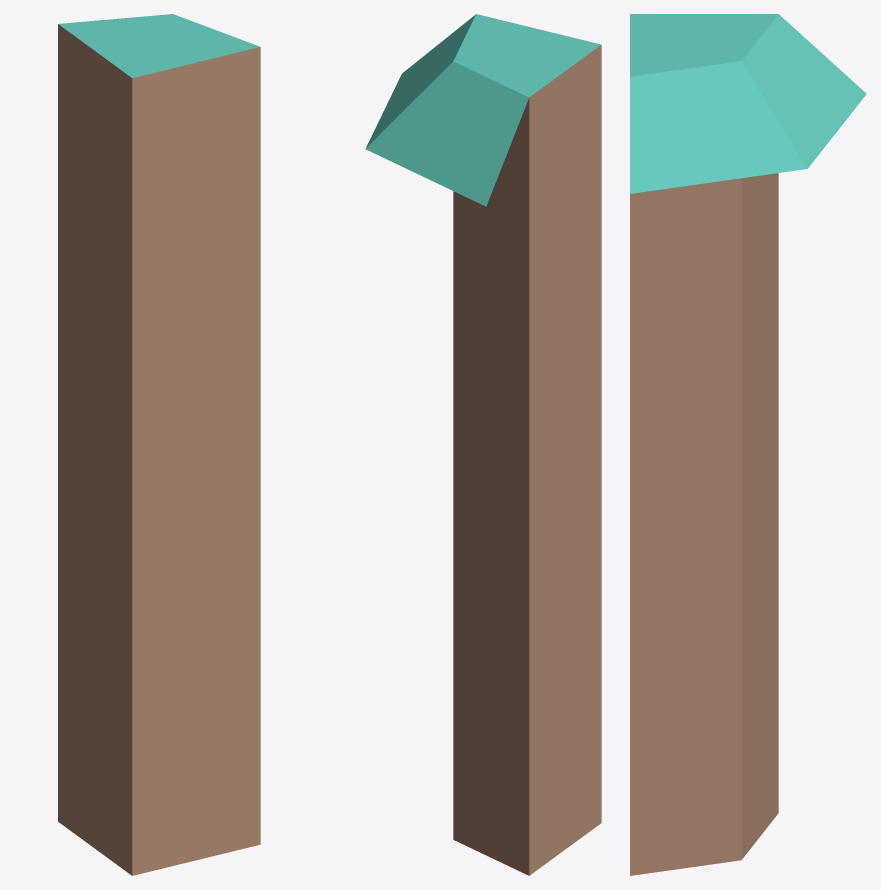
The model's file is cliff_cornerTop_rock.glb.
3 renders of one model, left to right at view 1: azimuth 30°, elevation 25°; view 2: azimuth 150°, elevation 25°; view 3: azimuth 270°, elevation 25°, orthographic. The views are drawn at different scales.
Parts seen in each view (by area): view 1: cliff_cornerTop_rock; view 2: cliff_cornerTop_rock; view 3: cliff_cornerTop_rock.
Boxes of the visible parts, x1,y1,x2,y2 form: cliff_cornerTop_rock: [58, 14, 260, 875]; cliff_cornerTop_rock: [365, 14, 601, 875]; cliff_cornerTop_rock: [630, 14, 866, 875].
Size of the model in its own units: 0.2685 by 1 by 0.2685.
